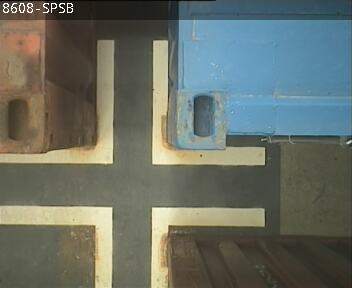groundmarker_1: (1, 42, 265, 164), (1, 204, 265, 288)
